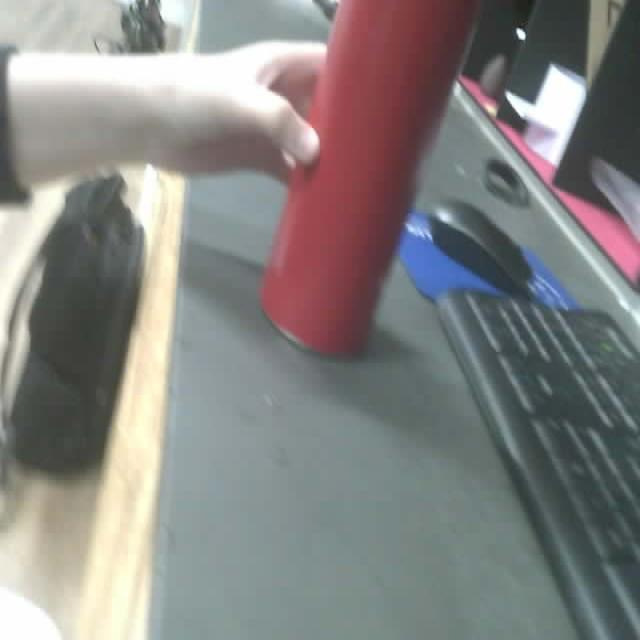water bottle: (257, 1, 483, 364)
